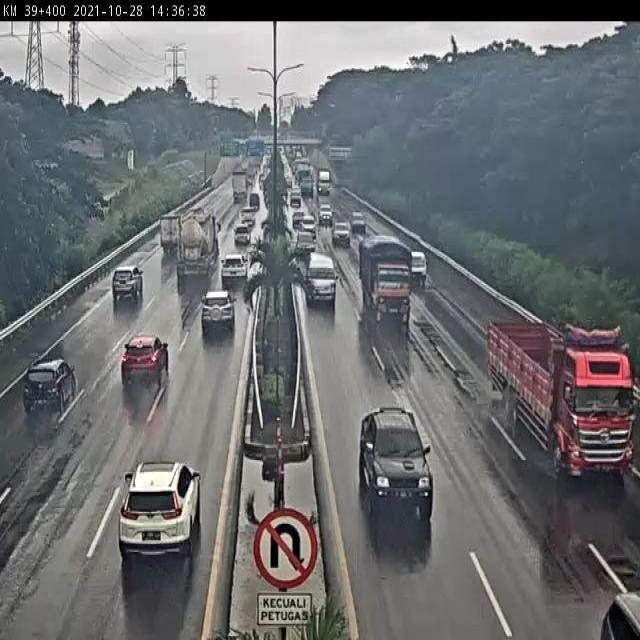big truck: (499, 309, 633, 496), (368, 240, 409, 336), (184, 218, 216, 278)
car: (359, 409, 436, 527), (131, 458, 201, 558), (306, 252, 342, 321), (32, 360, 76, 411), (126, 338, 169, 378), (202, 289, 235, 335), (113, 266, 144, 314), (222, 250, 251, 290), (337, 219, 357, 265), (295, 231, 316, 264), (410, 250, 426, 286), (239, 219, 249, 249)
small truck: (159, 212, 178, 256)
